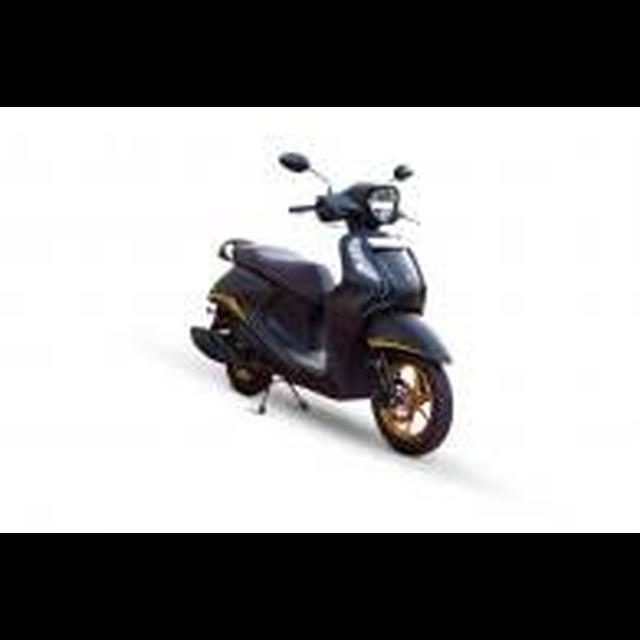motorcycle: (185, 145, 457, 464)
